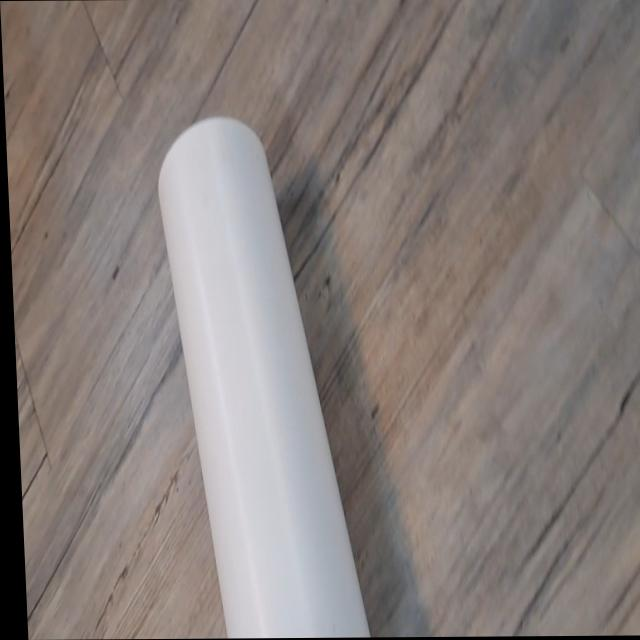CORAL: (143, 107, 384, 639)
